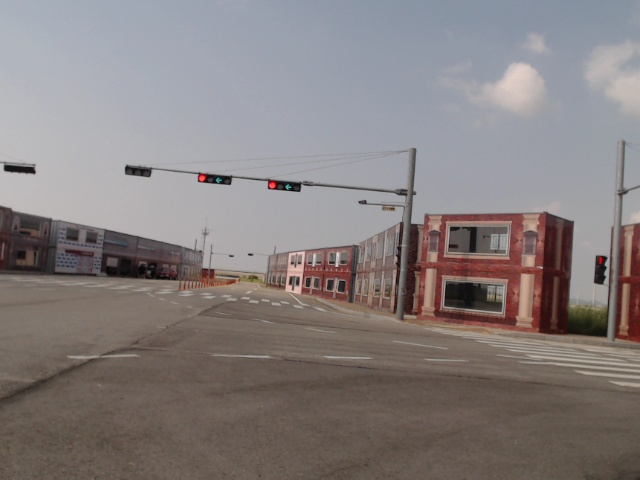left_green_4: (268, 180, 300, 192), (199, 174, 231, 185)
